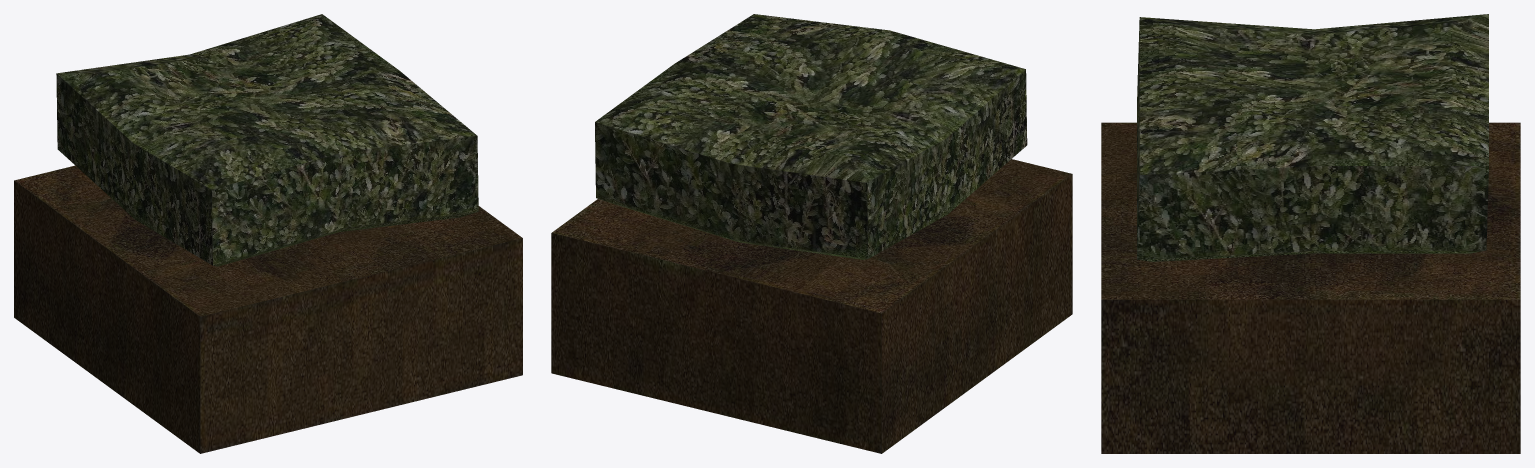
Rendered from Hedge.glb.
The picture shows the model from 3 angles, left to right: view 1: azimuth 30°, elevation 25°; view 2: azimuth 150°, elevation 25°; view 3: azimuth 270°, elevation 25°; orthographic projection. The views are drawn at different scales.
Visible parts, largest first — view 1: Hedge; view 2: Hedge; view 3: Hedge.
Boxes of the visible parts, <box> form: Hedge: <box>14,14,522,453</box>; Hedge: <box>551,14,1072,453</box>; Hedge: <box>1101,14,1520,453</box>.
Size of the model in its own units: 2 by 1.51 by 2.
1 material, 1 textured.
